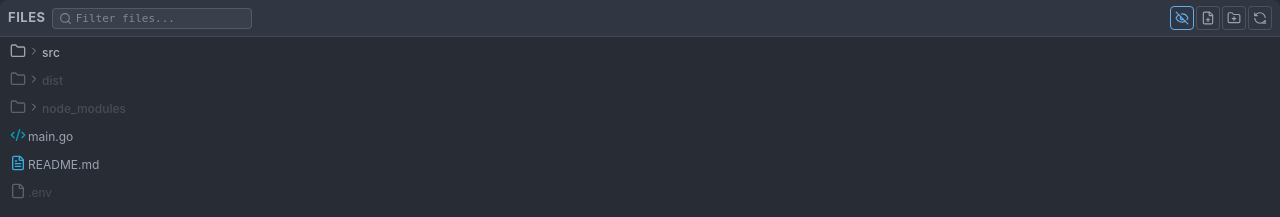
Test: FileTree filter › Escape key clears the filter
Type "main" into the search field with class "file-tree-filter-input". click: (160, 18)
box: x1=76 y1=10 x2=245 y2=26
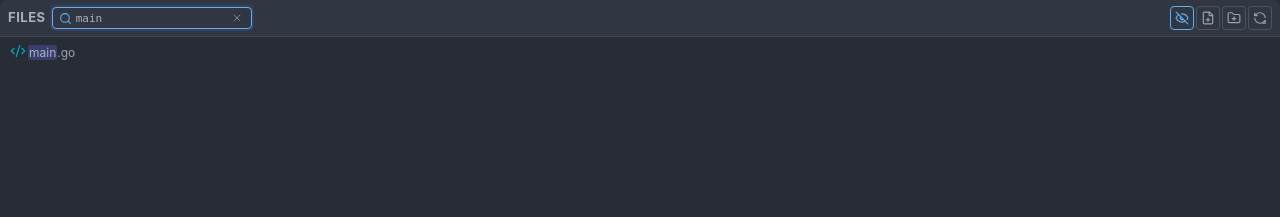
Press Escape in the search field with class "file-tree-filter-input", box x1=76 y1=10 x2=225 y2=26
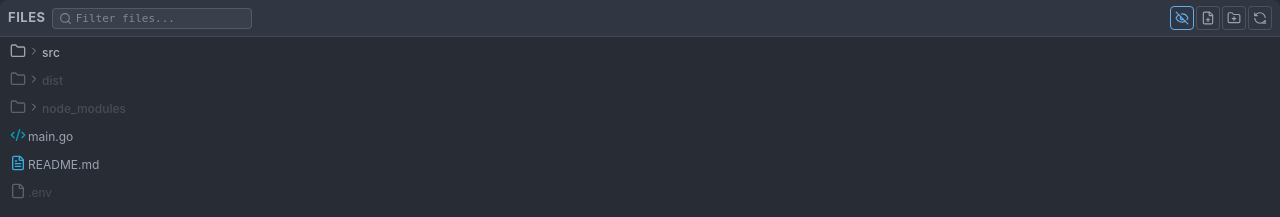
Expected: the text "src" is shown, x1=42 y1=45 x2=60 y2=60
Expected: the text "README.md" is shown, x1=28 y1=157 x2=99 y2=172
Expected: the search field with class "file-tree-filter-input" is empty, x1=76 y1=10 x2=245 y2=26
